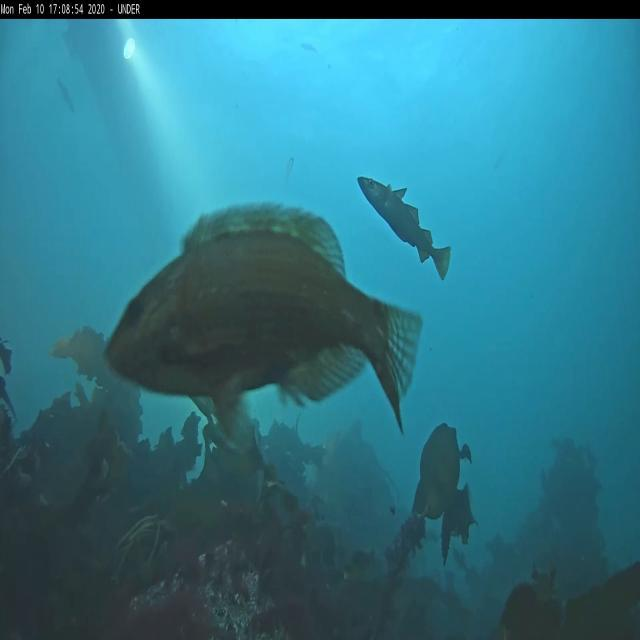fish: (105, 198, 424, 440), (357, 175, 451, 282), (56, 80, 74, 114), (283, 156, 294, 182)
